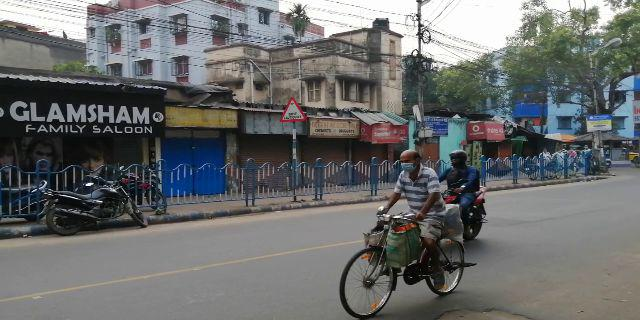Cycle: (333, 149, 472, 309)
Motorbike: (46, 185, 153, 238), (435, 152, 486, 247)
